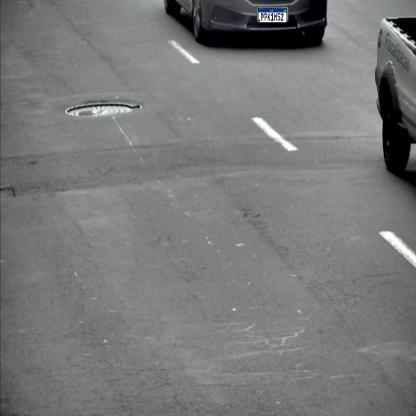PlacaM: (258, 8, 287, 23)
